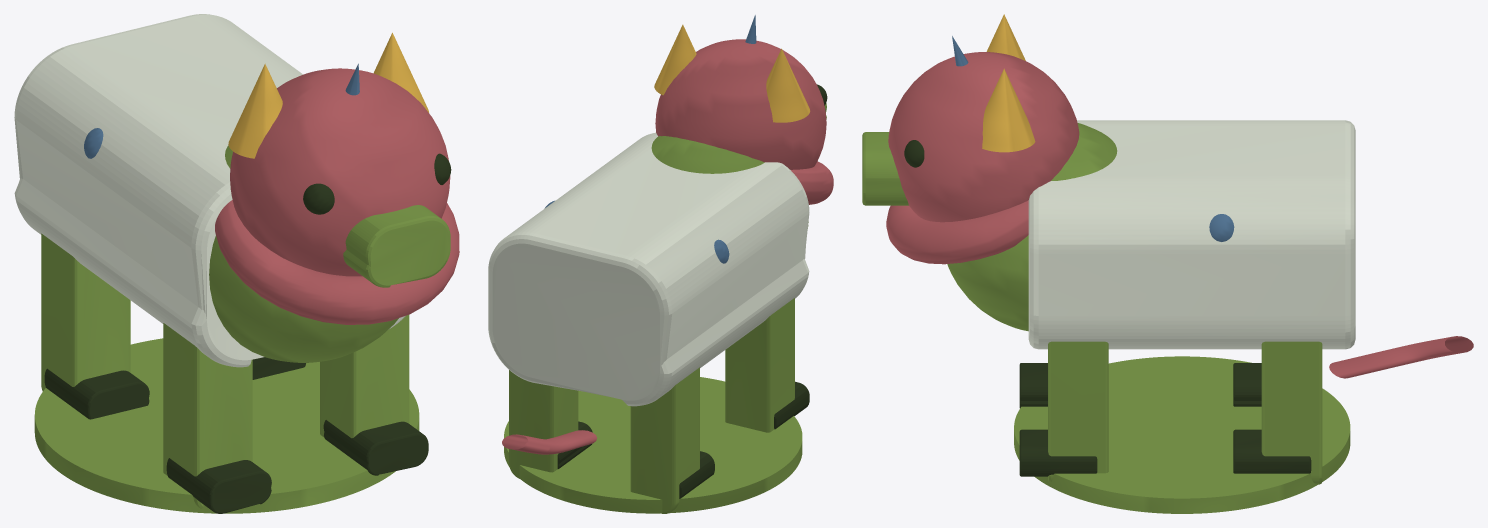
File: 0303_古生代动物图鉴_引螈.glb
3 views of the same model, side by side, from view 1: azimuth 30°, elevation 25°; view 2: azimuth 150°, elevation 25°; view 3: azimuth 270°, elevation 25° (orthographic). The views are drawn at different scales.
Parts seen in each view (by area): view 1: card_0303; view 2: card_0303; view 3: card_0303.
Boxes of the visible parts, box(x1,y1,x2,y2) form: card_0303: box(14, 14, 459, 513); card_0303: box(488, 15, 833, 513); card_0303: box(862, 14, 1473, 513).
Size of the model in its own units: 0.7446 by 1 by 1.35.
